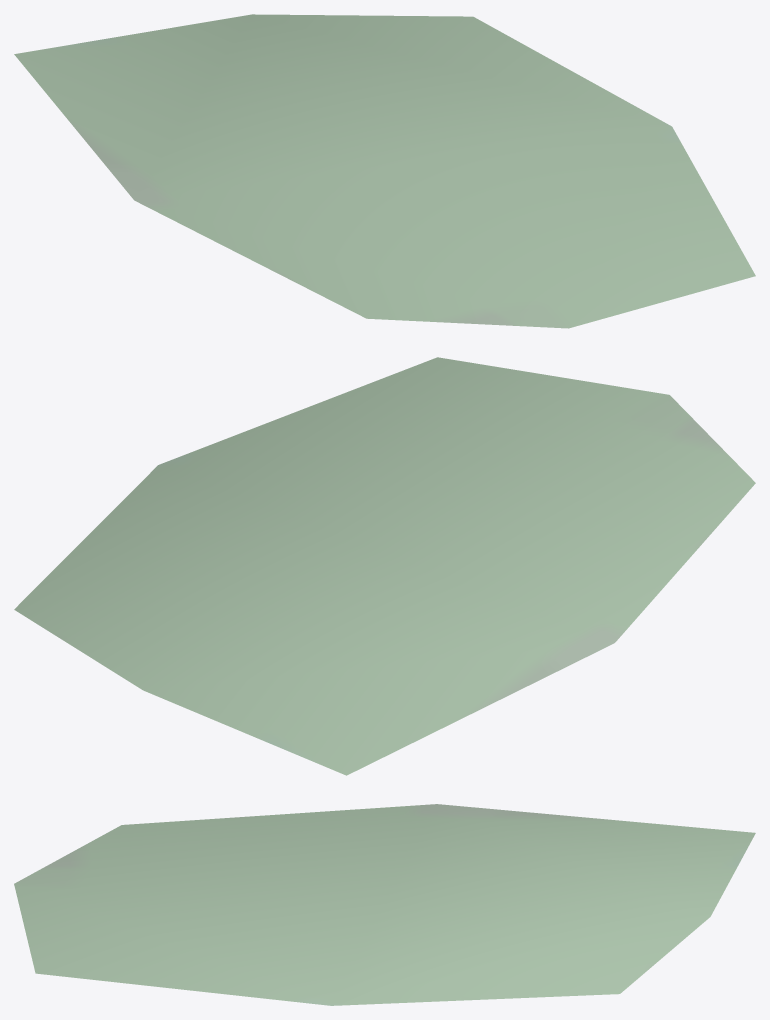
The model's file is TROLLHOLE02_HOLECAP10.fbx.
The picture shows the model from 3 angles, top to bottom: view 1: azimuth 30°, elevation 25°; view 2: azimuth 150°, elevation 25°; view 3: azimuth 270°, elevation 25°; orthographic projection. The views are drawn at different scales.
Visible parts, largest first — view 1: TROLLHOLE02_HOLECAP10; view 2: TROLLHOLE02_HOLECAP10; view 3: TROLLHOLE02_HOLECAP10.
Boxes of the visible parts, left/top/right/bottom form: TROLLHOLE02_HOLECAP10: left=14, top=14, right=755, bottom=328; TROLLHOLE02_HOLECAP10: left=14, top=357, right=755, bottom=775; TROLLHOLE02_HOLECAP10: left=14, top=804, right=755, bottom=1005.
Bounding box in the file's own units: 26570 × 397 × 40956.
Materials: 1 (1 with a texture image).
